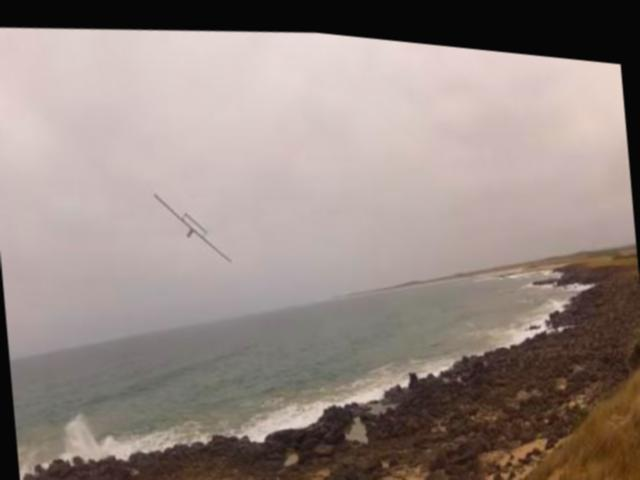uav: (147, 177, 236, 277)
